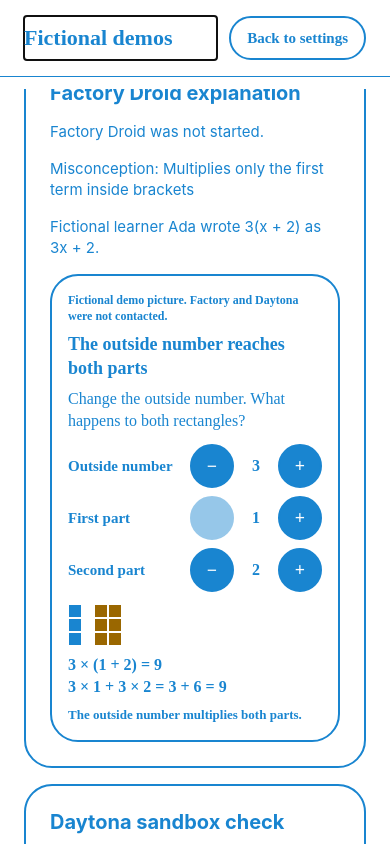
IntegrationDemosScreen › shows the three fictional demos and lets the picture change
(page scrolled)
Expected: the heading "Factory Droid explanation" is shown, 50,89 -> 340,105
Expected: the text "Factory Droid was not started." is shown, 50,122 -> 264,141
Click the button with test id "outer-more": (300, 466) 278,444 -> 322,488
(page scrolled)
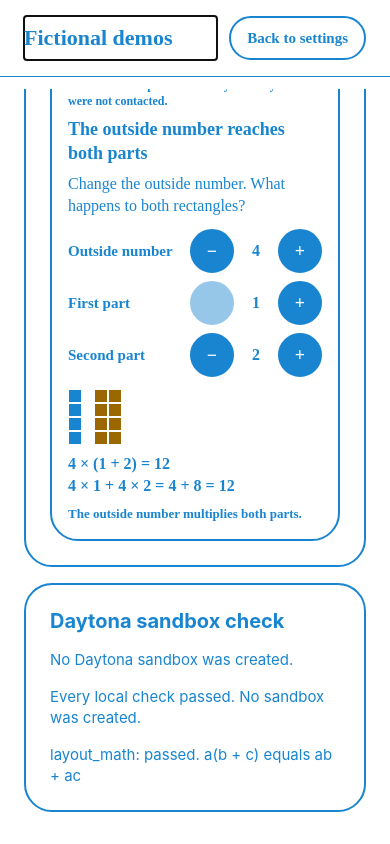
Now the text with test id "manipulative-readout" shows "4 × (1 + 2) = 12", box 68,455 -> 235,494
Now the text "No Daytona sandbox was created." is shown, box 50,650 -> 293,669
Now the text "layout_math: passed. a(b + c) equals ab + ac" is shown, box 50,744 -> 340,786
